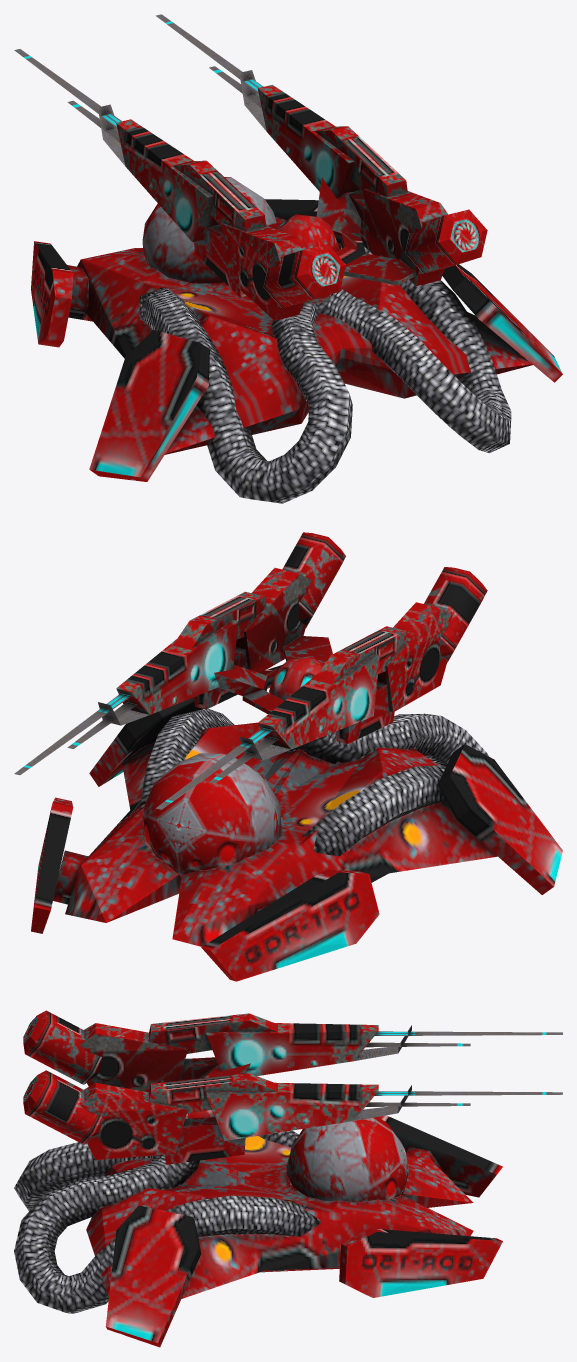
File: cottus_twincannon.DAE
3 renders of one model, top to bottom at view 1: azimuth 30°, elevation 25°; view 2: azimuth 150°, elevation 25°; view 3: azimuth 270°, elevation 25°, orthographic. The views are drawn at different scales.
Visible parts, largest first — view 1: GeoSphere04, Tube01; view 2: GeoSphere04, Tube01; view 3: GeoSphere04, Tube01.
Part boxes in pixels (x1,y1,x2,y2): GeoSphere04: [31, 177, 562, 503]; Tube01: [14, 14, 487, 320]; GeoSphere04: [31, 657, 562, 981]; Tube01: [14, 532, 487, 809]; GeoSphere04: [14, 1110, 502, 1347]; Tube01: [23, 1010, 562, 1164].
Bounding box in the file's own units: 75.6 × 89.27 × 39.15.
2 materials, 2 textured.
